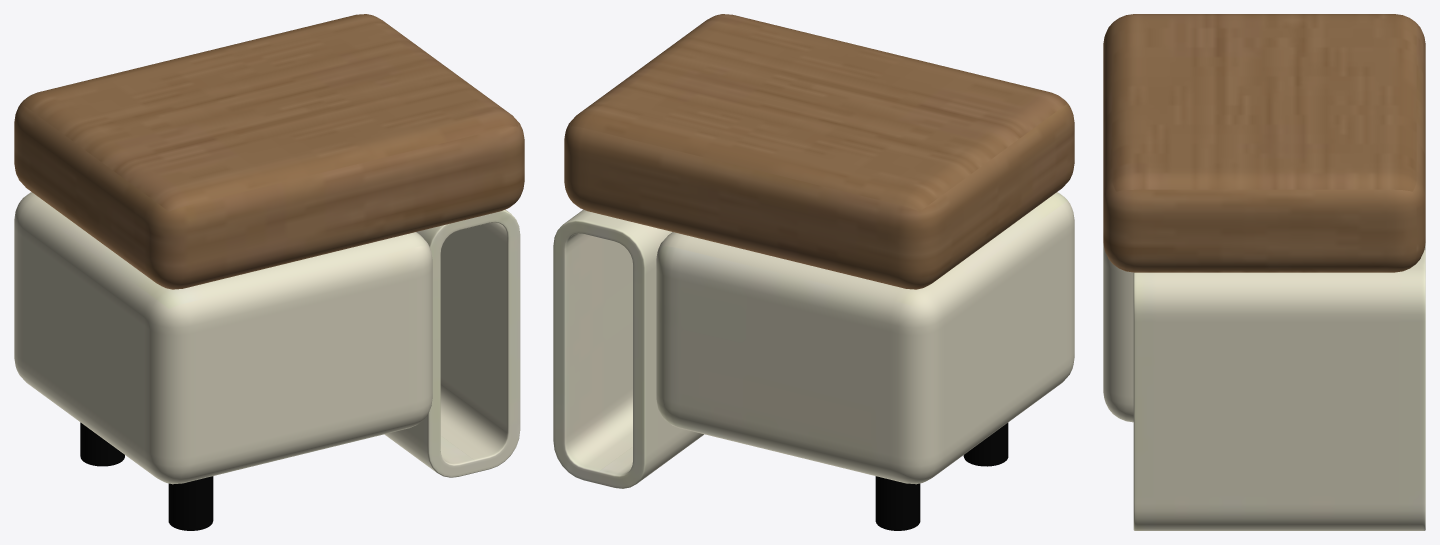
The model's file is nightstand_modern.glb.
3 views of the same model, side by side, from view 1: azimuth 30°, elevation 25°; view 2: azimuth 150°, elevation 25°; view 3: azimuth 270°, elevation 25° (orthographic).
Parts seen in each view (by area): view 1: Modern Nightstand; view 2: Modern Nightstand; view 3: Modern Nightstand.
Boxes of the visible parts, bbox=[...] form: Modern Nightstand: bbox=[14, 14, 524, 530]; Modern Nightstand: bbox=[553, 14, 1074, 530]; Modern Nightstand: bbox=[1103, 14, 1425, 530].
Bounding box in the file's own units: 0.6 × 0.5499 × 0.45.
3 materials, 2 textured.
